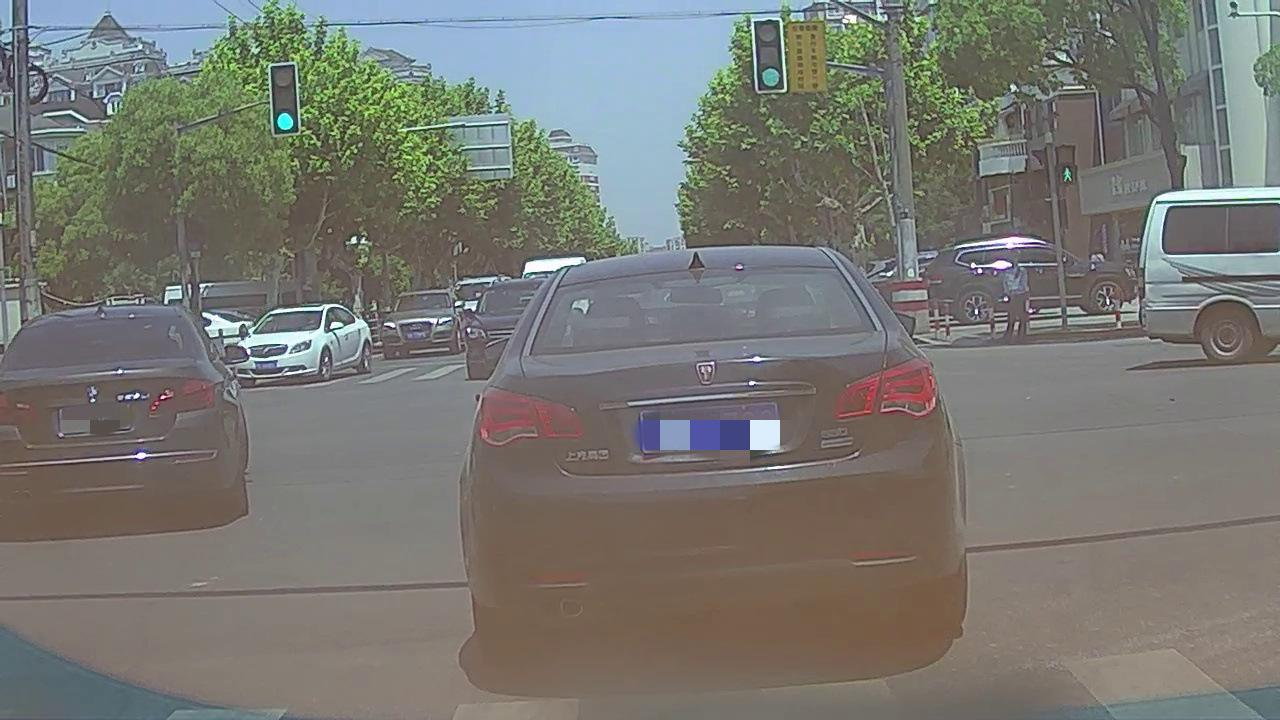traffic_light: (269, 61, 303, 132), (757, 20, 786, 90)
